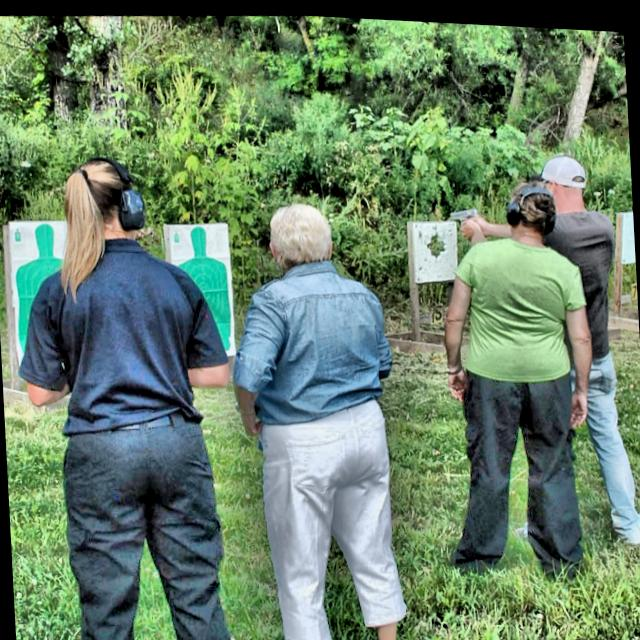pistol: (446, 203, 479, 224)
